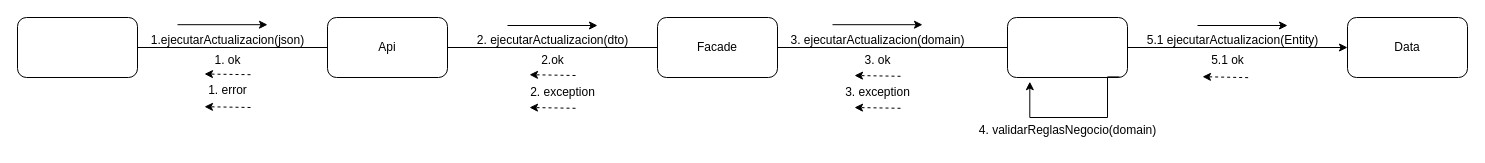
This 1485x163 diagram has some shape labels left out. Here are the shapes that lost their labels. From the top down, the centre of each, then its label:
(77,47): Client
(1067,47): UseCase
